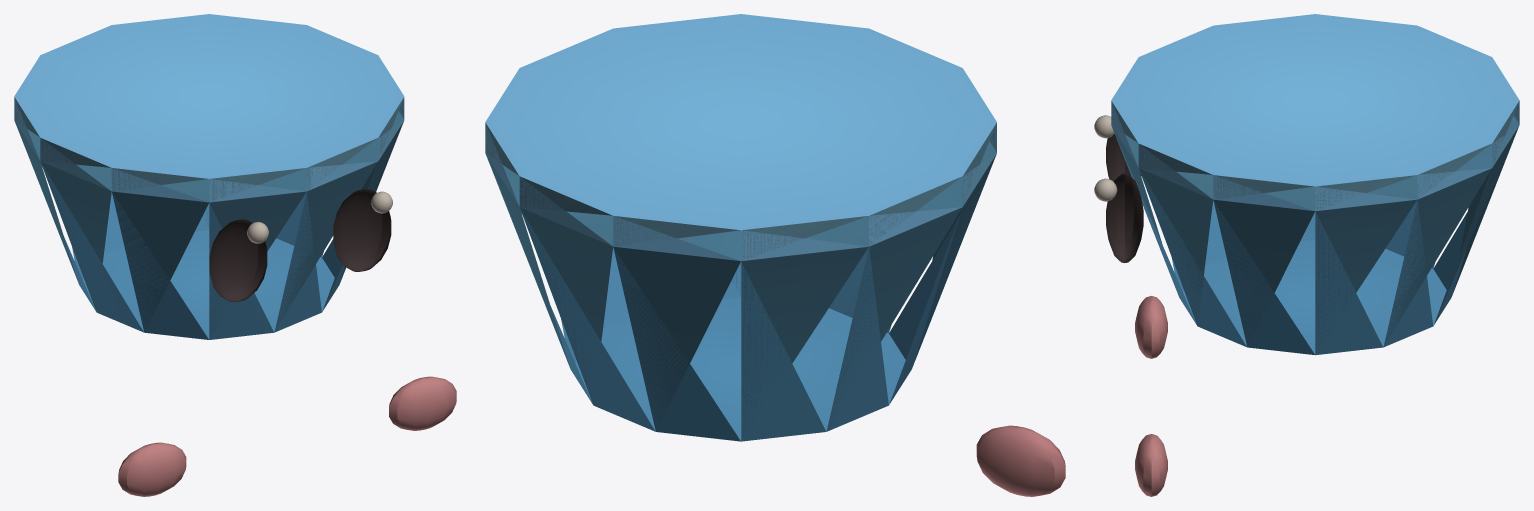
3 renders of one model, left to right at view 1: azimuth 30°, elevation 25°; view 2: azimuth 150°, elevation 25°; view 3: azimuth 270°, elevation 25°, orthographic. The views are drawn at different scales.
Visible parts, largest first — view 1: pet_p190de250; view 2: pet_p190de250; view 3: pet_p190de250.
Boxes of the visible parts, <box> form: pet_p190de250: <box>14,14,456,496</box>; pet_p190de250: <box>485,14,1065,496</box>; pet_p190de250: <box>1094,14,1519,496</box>.
Bounding box in the file's own units: 0.3003 × 0.2614 × 0.3124.
